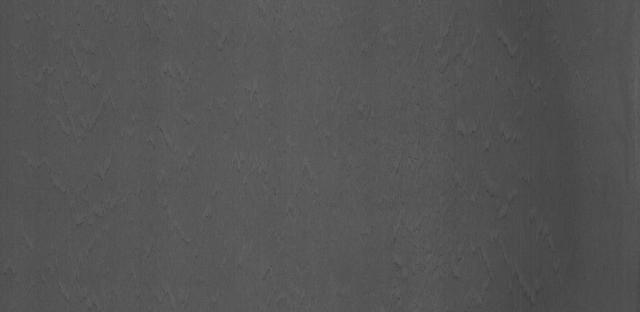silk_spot: (325, 28, 560, 277), (130, 78, 222, 184)
